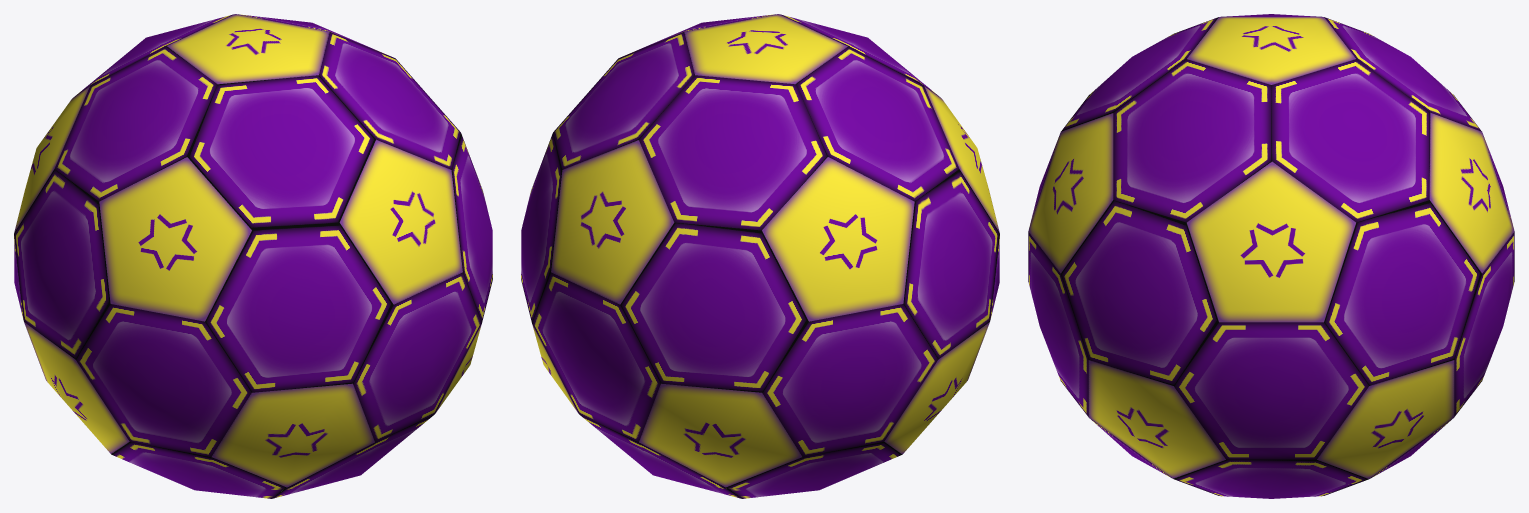
File: Ball4.FBX
3 views of the same model, side by side, from view 1: azimuth 30°, elevation 25°; view 2: azimuth 150°, elevation 25°; view 3: azimuth 270°, elevation 25° (orthographic).
Parts seen in each view (by area): view 1: Ball04; view 2: Ball04; view 3: Ball04.
Boxes of the visible parts, bbox=[...] form: Ball04: bbox=[14, 14, 492, 498]; Ball04: bbox=[521, 14, 999, 498]; Ball04: bbox=[1028, 14, 1514, 498].
Size of the model in its own units: 47.91 by 48.62 by 47.79.
